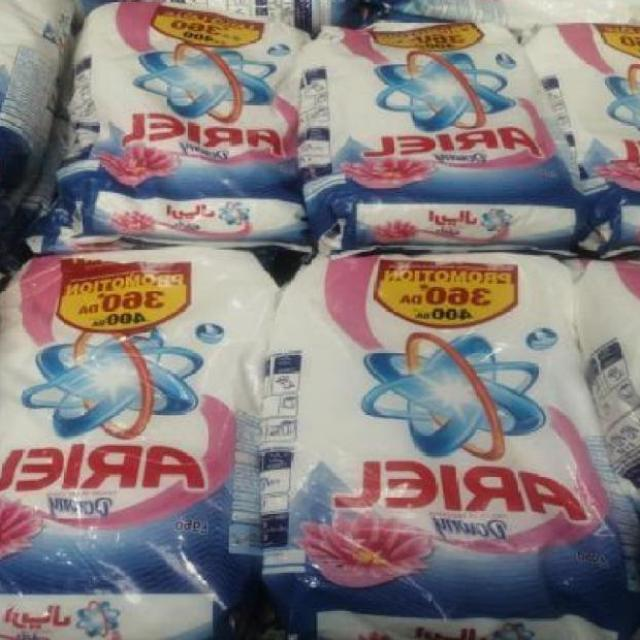Detergent: (271, 246, 623, 622), (0, 245, 265, 640), (300, 6, 578, 238), (60, 0, 305, 244)
